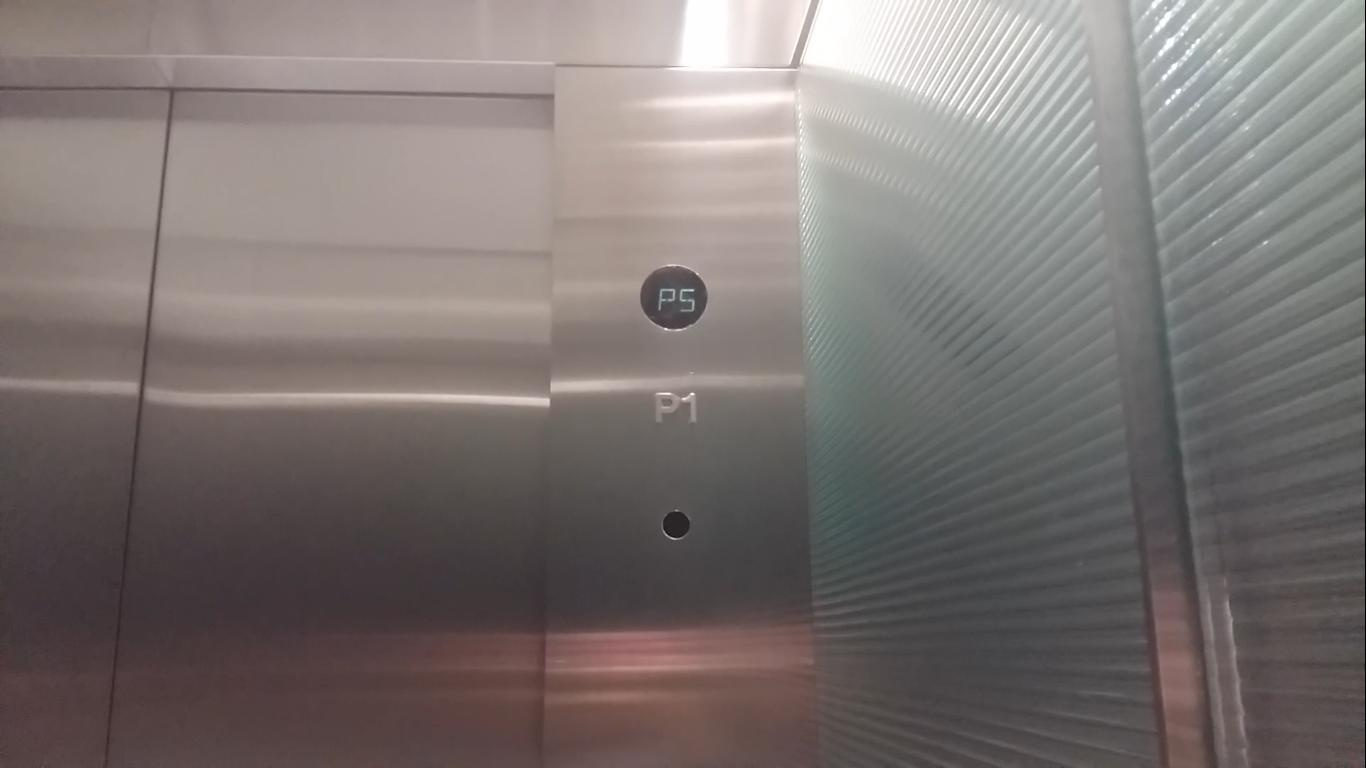P1: (642, 383, 707, 439)
P5: (637, 265, 709, 332)
